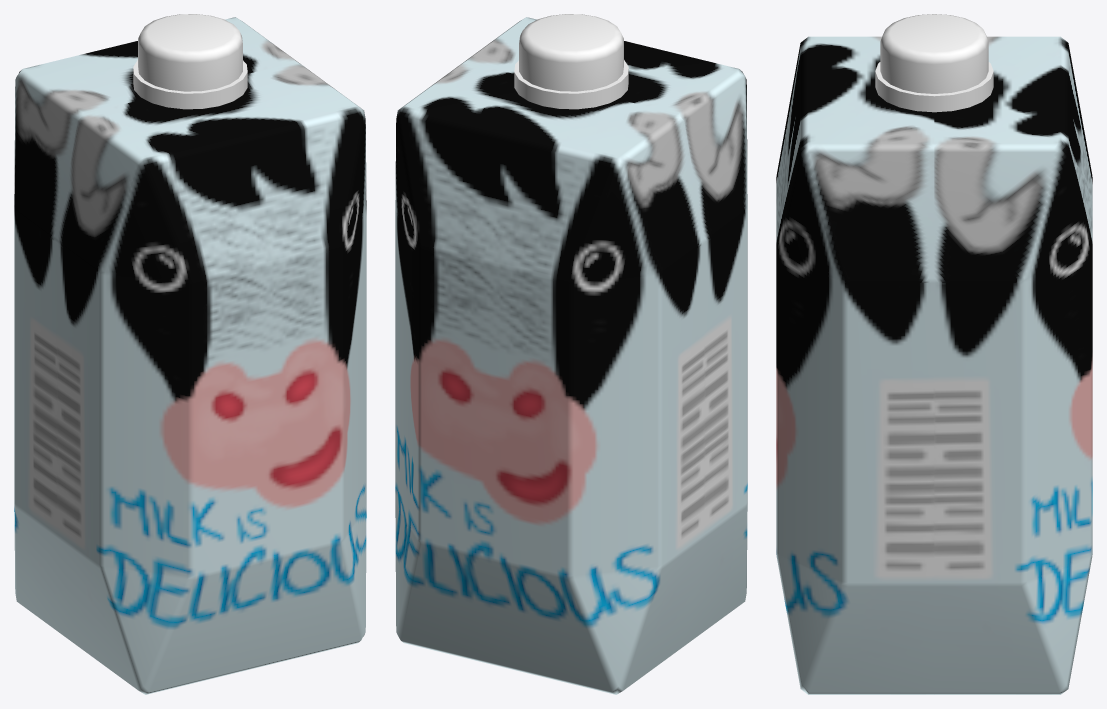
The model's file is Milk.fbx.
The picture shows the model from 3 angles, left to right: view 1: azimuth 30°, elevation 25°; view 2: azimuth 150°, elevation 25°; view 3: azimuth 270°, elevation 25°; orthographic projection. The views are drawn at different scales.
Parts seen in each view (by area): view 1: Milk; view 2: Milk; view 3: Milk.
Boxes of the visible parts, bbox=[...] form: Milk: bbox=[14, 14, 366, 694]; Milk: bbox=[395, 14, 747, 694]; Milk: bbox=[776, 14, 1092, 694].
Size of the model in its own units: 16.26 by 34.48 by 16.26.
